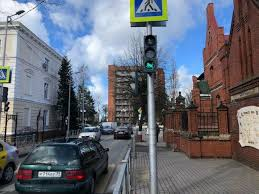tl: (142, 34, 159, 73)
